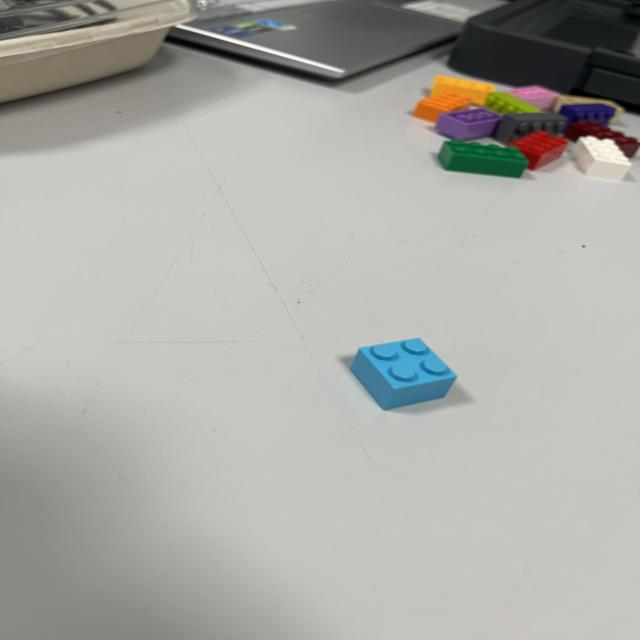C2x2x1: (347, 335, 460, 409)
